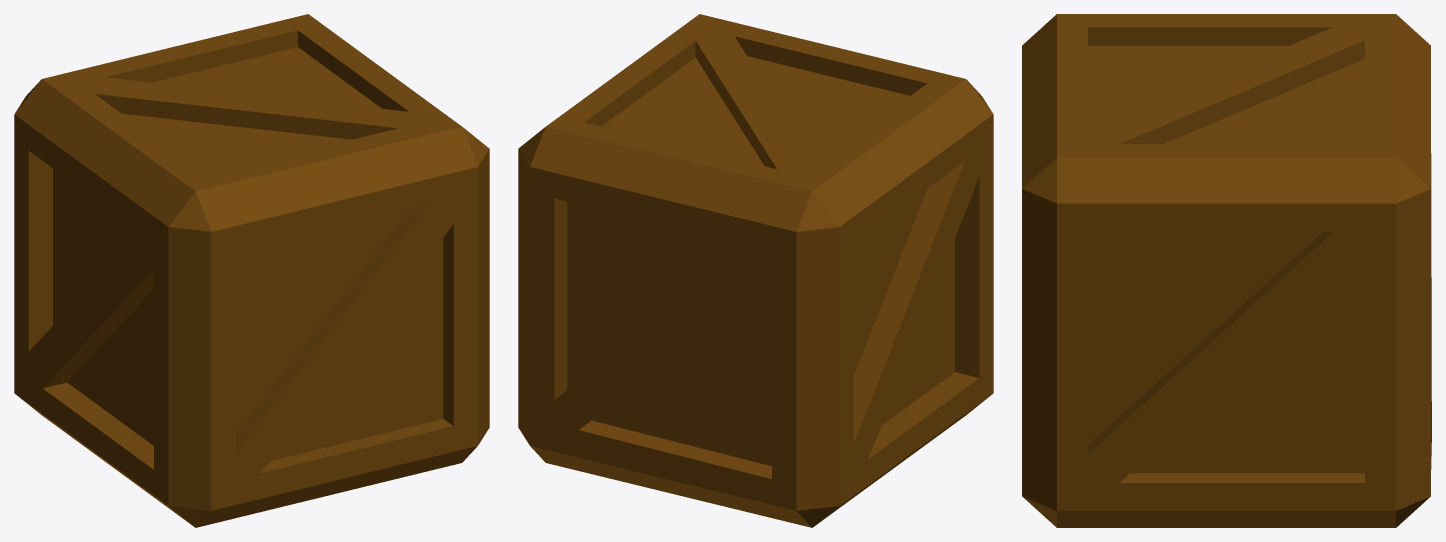
The model's file is untitledasdad.fbx.
3 renders of one model, left to right at view 1: azimuth 30°, elevation 25°; view 2: azimuth 150°, elevation 25°; view 3: azimuth 270°, elevation 25°, orthographic. The views are drawn at different scales.
Parts seen in each view (by area): view 1: Cube; view 2: Cube; view 3: Cube.
Boxes of the visible parts, box(x1,y1,x2,y2) form: Cube: box(14, 14, 489, 527); Cube: box(518, 14, 993, 527); Cube: box(1022, 14, 1431, 527).
Bounding box in the file's own units: 200 × 200 × 200.
